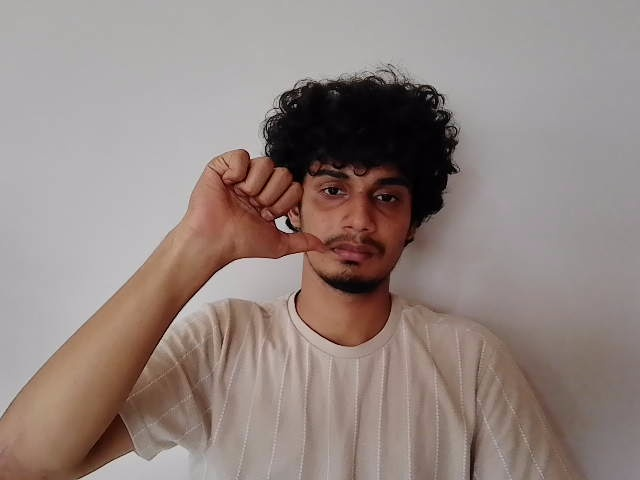drink: (189, 137, 429, 289)
